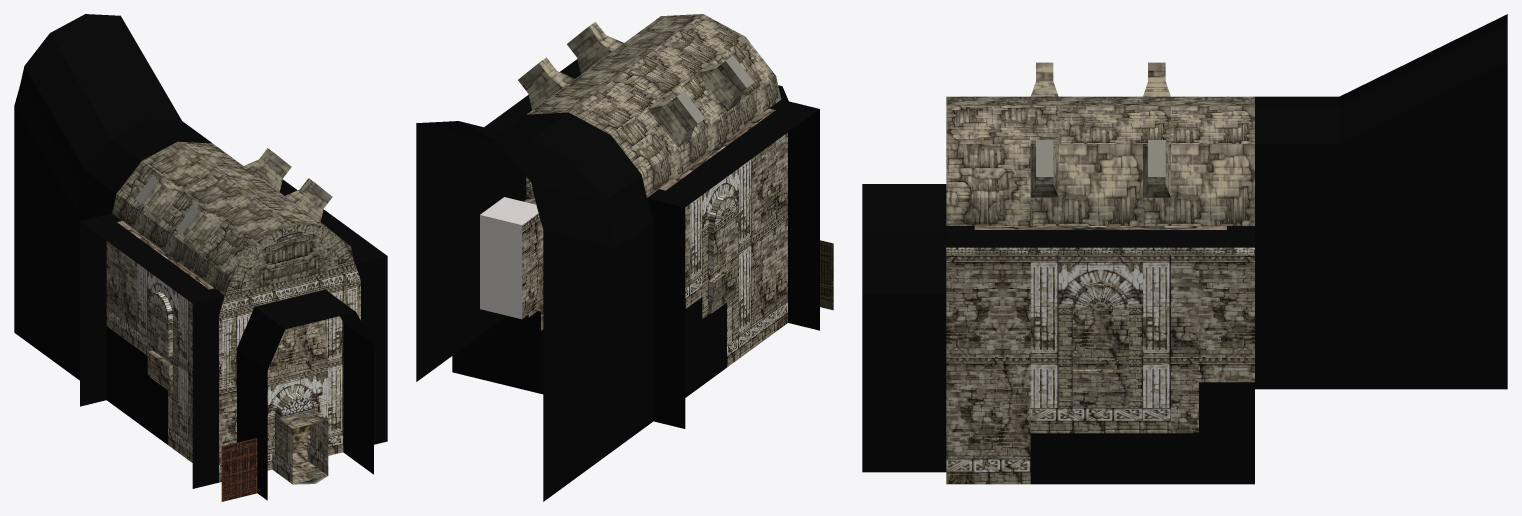
Rendered from MAP057.obj.
3 renders of one model, left to right at view 1: azimuth 30°, elevation 25°; view 2: azimuth 150°, elevation 25°; view 3: azimuth 270°, elevation 25°, orthographic. The views are drawn at different scales.
Parts seen in each view (by area): view 1: mesh_50, mesh_36, mesh_53, mesh_52, mesh_27, mesh_51, mesh_40, mesh_26, mesh_24, mesh_25, mesh_32, mesh_23 (+15 smaller); view 2: mesh_50, mesh_36, mesh_53, mesh_64, mesh_32, mesh_41, mesh_45, mesh_40, mesh_31, mesh_61, mesh_43, mesh_51 (+7 smaller); view 3: mesh_64, mesh_36, mesh_52, mesh_50, mesh_19, mesh_56, mesh_40, mesh_20, mesh_51, mesh_57, mesh_22, mesh_18 (+3 smaller).
Boxes of the visible parts, x1,y1,x2,y2 form: mesh_50: [14, 14, 211, 380]; mesh_36: [112, 141, 332, 295]; mesh_53: [80, 213, 224, 488]; mesh_52: [237, 289, 373, 500]; mesh_27: [224, 224, 355, 295]; mesh_51: [280, 179, 387, 444]; mesh_40: [106, 326, 167, 444]; mesh_26: [219, 264, 360, 483]; mesh_24: [219, 281, 360, 437]; mesh_25: [219, 319, 328, 463]; mesh_32: [106, 241, 192, 444]; mesh_23: [267, 370, 327, 465]; mesh_50: [416, 112, 653, 501]; mesh_36: [518, 14, 781, 197]; mesh_53: [647, 99, 819, 428]; mesh_64: [416, 123, 526, 381]; mesh_32: [708, 132, 787, 327]; mesh_41: [484, 311, 543, 394]; mesh_45: [480, 215, 522, 319]; mesh_40: [685, 297, 726, 397]; mesh_31: [702, 168, 738, 344]; mesh_61: [685, 204, 787, 286]; mesh_43: [522, 213, 543, 318]; mesh_51: [452, 59, 580, 379]; mesh_64: [1255, 61, 1507, 358]; mesh_36: [946, 62, 1254, 225]; mesh_52: [862, 184, 946, 472]; mesh_50: [1255, 14, 1507, 389]; mesh_19: [946, 255, 1254, 458]; mesh_56: [946, 255, 1254, 407]; mesh_40: [1030, 382, 1254, 484]; mesh_20: [946, 247, 1254, 484]; mesh_51: [946, 226, 1254, 247]; mesh_57: [1030, 306, 1170, 407]; mesh_22: [1058, 255, 1142, 369]; mesh_18: [1030, 255, 1170, 369].
Size of the model in its own units: 141 by 208 by 294.
16 materials, 16 textured.
